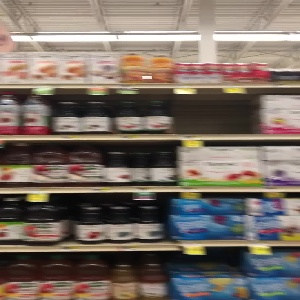void: (176, 90, 262, 138)
